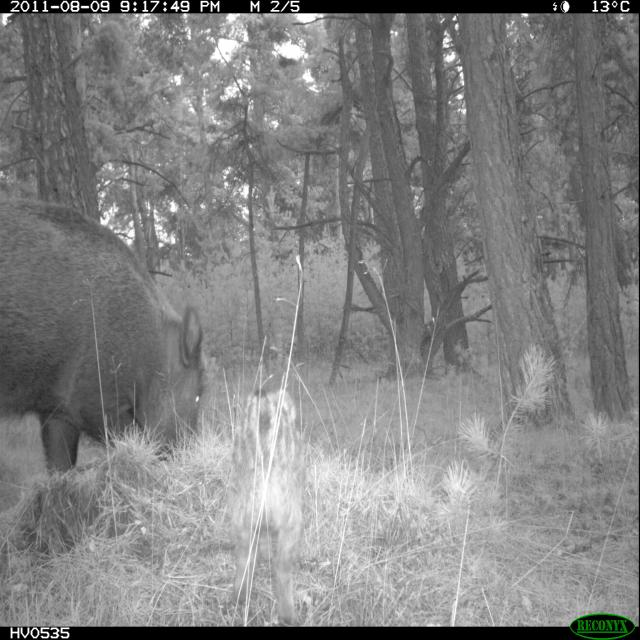boar: (0, 179, 231, 500)
